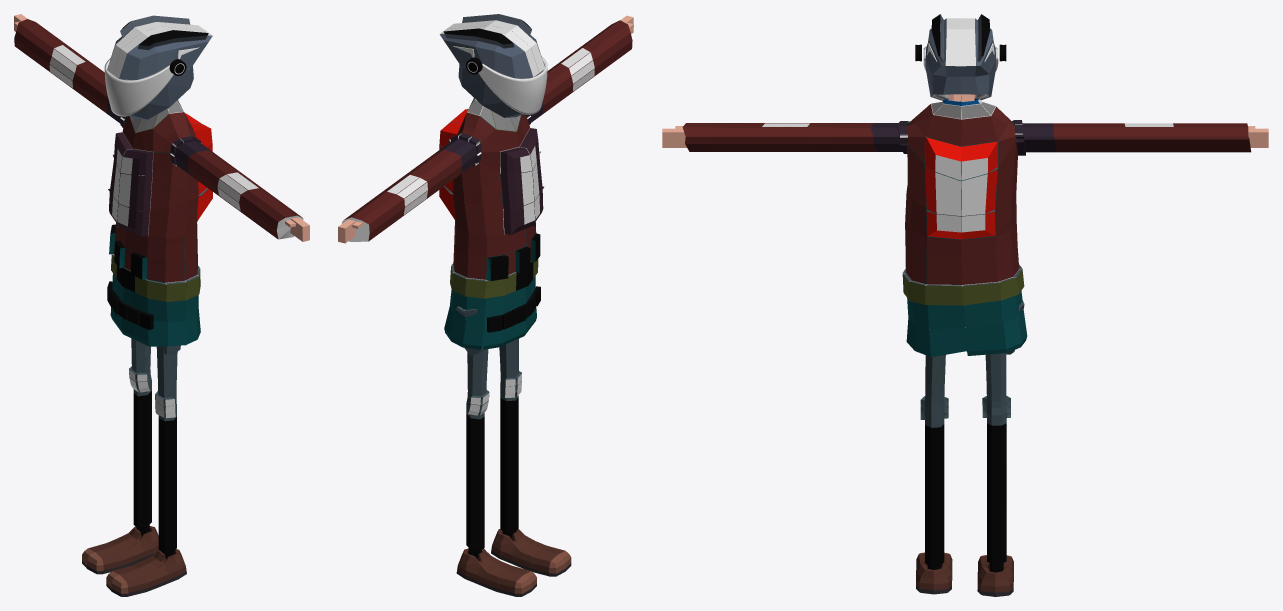
File: private_soldier_3.fbx
The picture shows the model from 3 angles, left to right: view 1: azimuth 30°, elevation 25°; view 2: azimuth 150°, elevation 25°; view 3: azimuth 270°, elevation 25°; orthographic projection. The views are drawn at different scales.
Visible parts, largest first — view 1: Cube.010; view 2: Cube.010; view 3: Cube.010.
Boxes of the visible parts, bbox=[...] form: Cube.010: bbox=[14, 14, 309, 596]; Cube.010: bbox=[338, 14, 633, 596]; Cube.010: bbox=[662, 14, 1268, 596].
Bounding box in the file's own units: 39.56 × 193 × 185.
